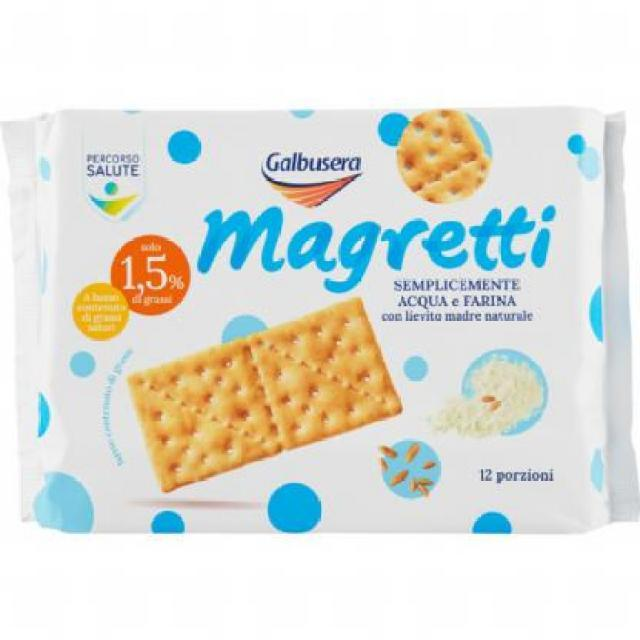Cracker: (1, 103, 639, 546)
